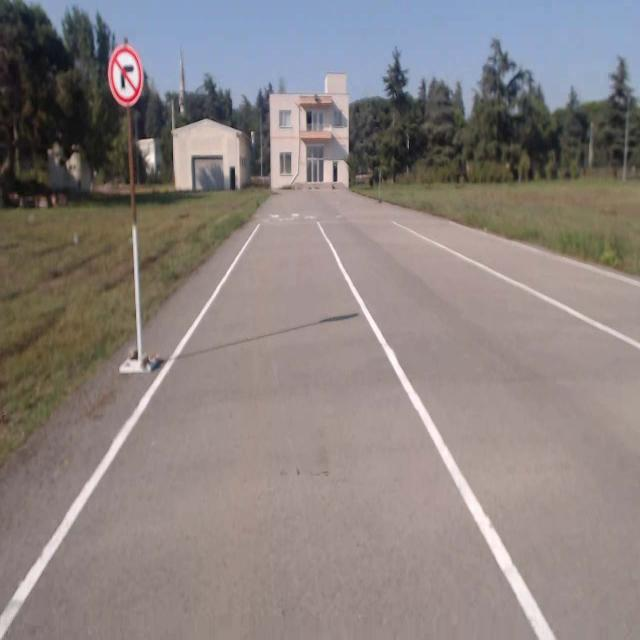sagadonulmez: (110, 48, 141, 101)
